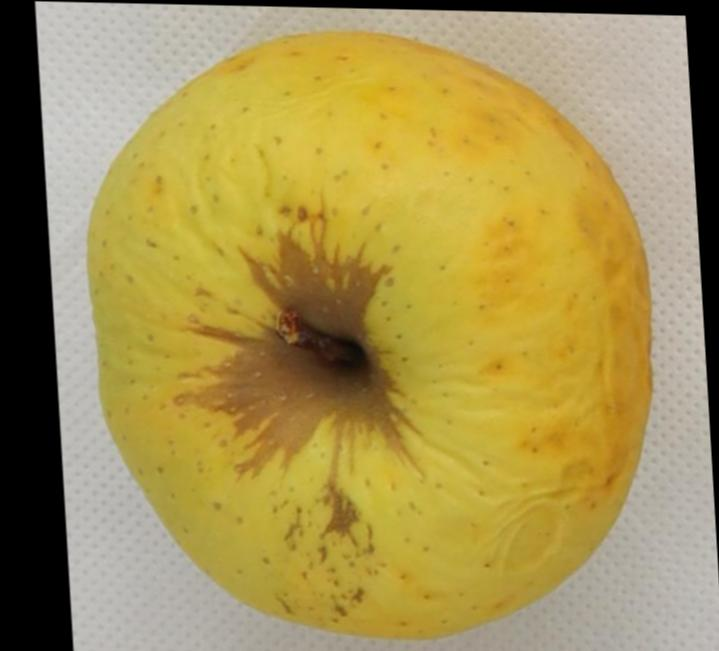apple: (87, 31, 649, 638)
bruise_discoloration: (172, 229, 417, 522)
